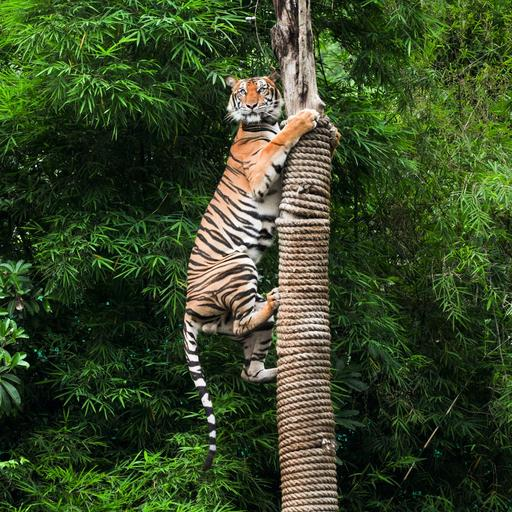Tiger: (175, 67, 332, 480)
